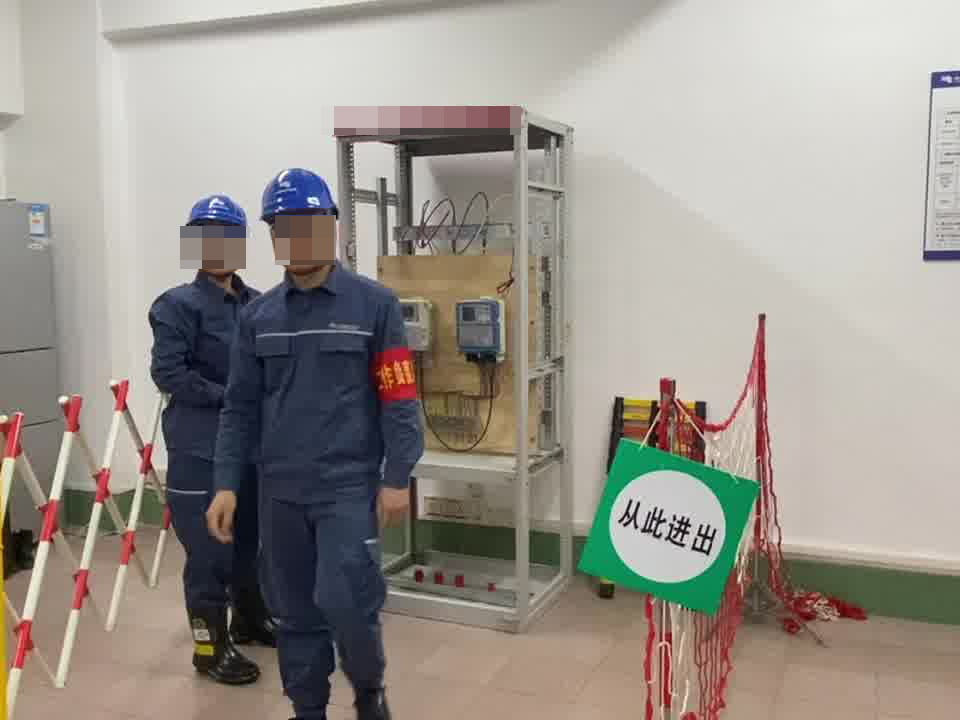badge: (371, 346, 420, 409)
downsuit: (255, 510, 393, 720), (166, 486, 261, 648)
goggles: (188, 227, 244, 272)
halt: (259, 165, 343, 283), (182, 193, 252, 281)
hand: (369, 487, 414, 532), (201, 487, 238, 539)
inear: (320, 213, 343, 254)
intosign: (570, 430, 763, 628)
person: (234, 162, 432, 720), (144, 182, 278, 691)
shoe: (186, 606, 267, 682), (230, 594, 287, 646)
upsuit: (235, 261, 425, 501)
